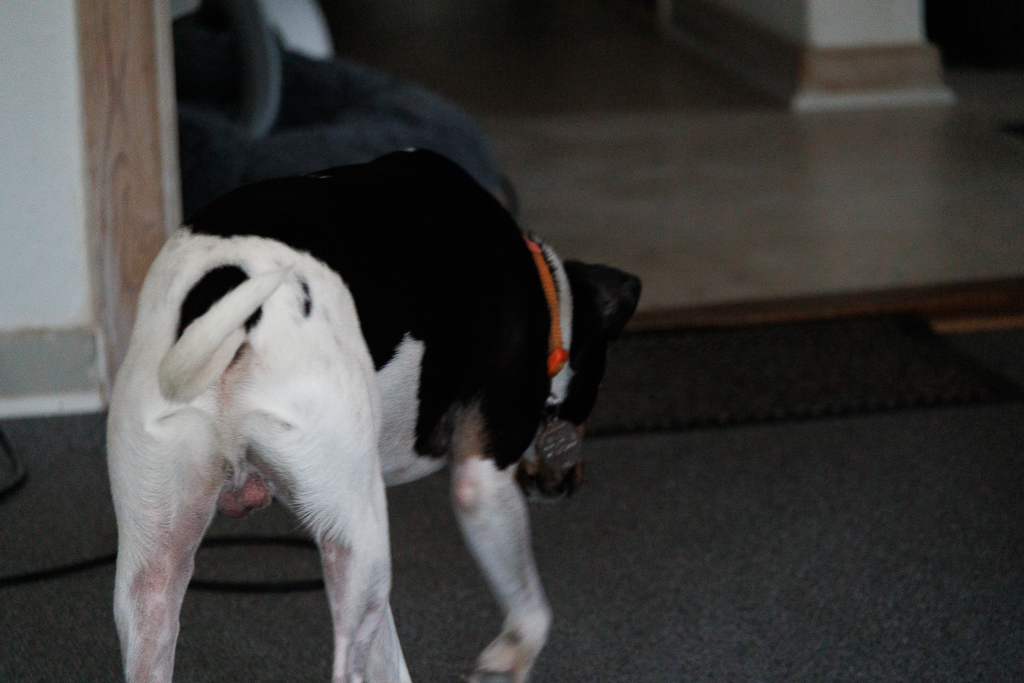Dog: (96, 127, 655, 683)
